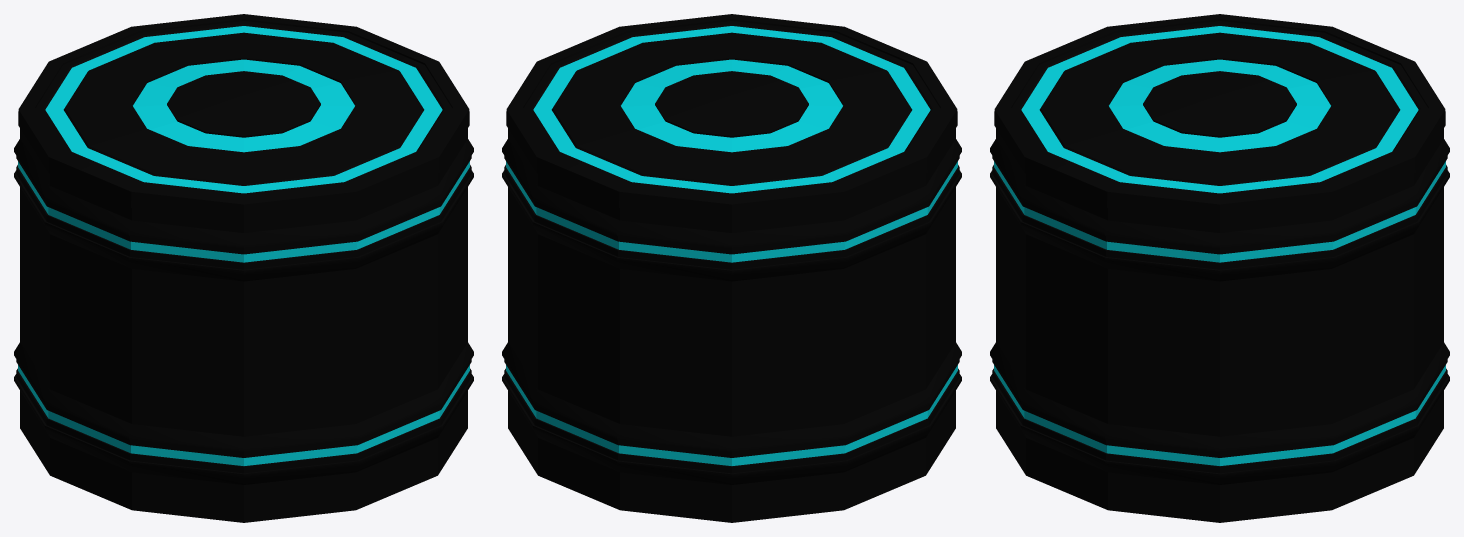
File: PlatformRoboticShort01.fbx
3 renders of one model, left to right at view 1: azimuth 30°, elevation 25°; view 2: azimuth 150°, elevation 25°; view 3: azimuth 270°, elevation 25°, orthographic.
Parts seen in each view (by area): view 1: PlatformRobotic01, pCylinder2, pCylinder3; view 2: PlatformRobotic01, pCylinder2, pCylinder3; view 3: PlatformRobotic01, pCylinder2, pCylinder3.
Boxes of the visible parts, box(x1,y1,x2,y2) form: PlatformRobotic01: box(18, 14, 469, 522); pCylinder2: box(14, 139, 473, 281); pCylinder3: box(14, 342, 473, 484); PlatformRobotic01: box(506, 14, 957, 522); pCylinder2: box(502, 139, 961, 281); pCylinder3: box(502, 342, 961, 484); PlatformRobotic01: box(994, 14, 1445, 522); pCylinder2: box(990, 139, 1449, 281); pCylinder3: box(990, 342, 1449, 484).
Bounding box in the file's own units: 2.55 × 2.11 × 2.55.
